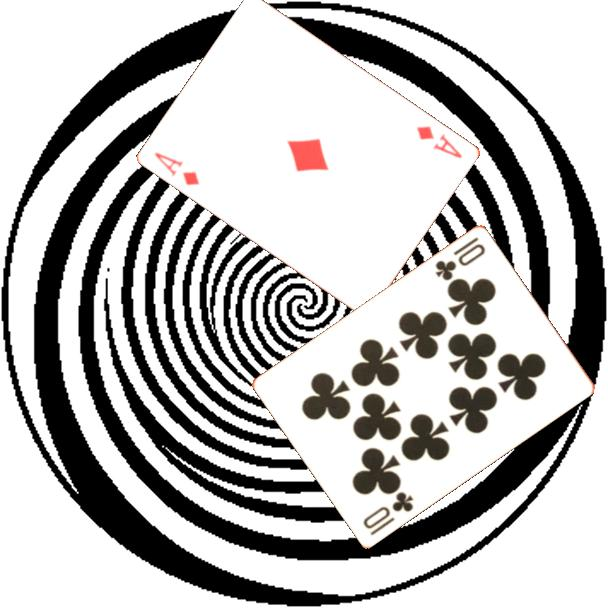c10: (359, 487, 416, 538), (432, 233, 488, 283)
d01: (151, 148, 203, 188), (413, 122, 466, 161)
